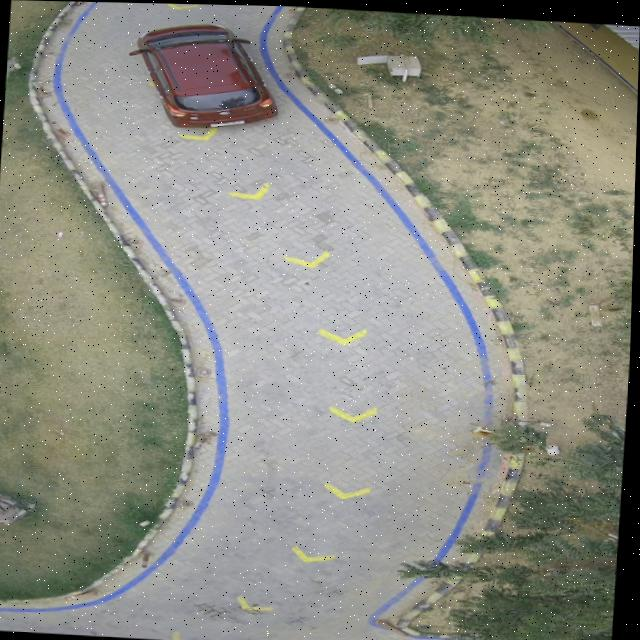car: (133, 22, 278, 128)
